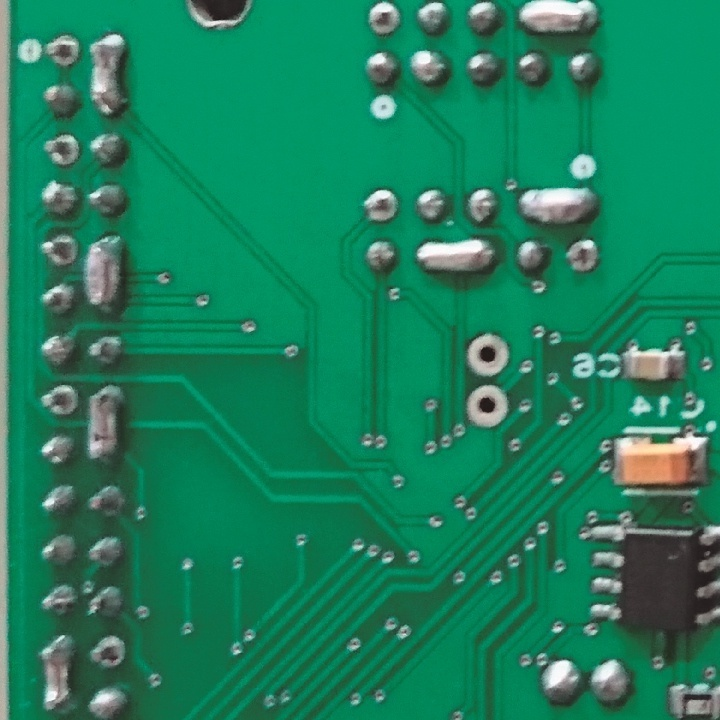F: (465, 332, 513, 379), (462, 381, 508, 429), (40, 30, 82, 70), (36, 381, 79, 419), (85, 632, 126, 671), (359, 186, 400, 224), (41, 131, 81, 169), (563, 235, 601, 274), (38, 232, 79, 268), (367, 1, 401, 43)
P: (83, 233, 128, 316), (518, 1, 604, 43), (516, 183, 601, 225), (90, 30, 128, 119), (85, 382, 124, 466), (413, 237, 497, 276), (40, 633, 78, 715)
